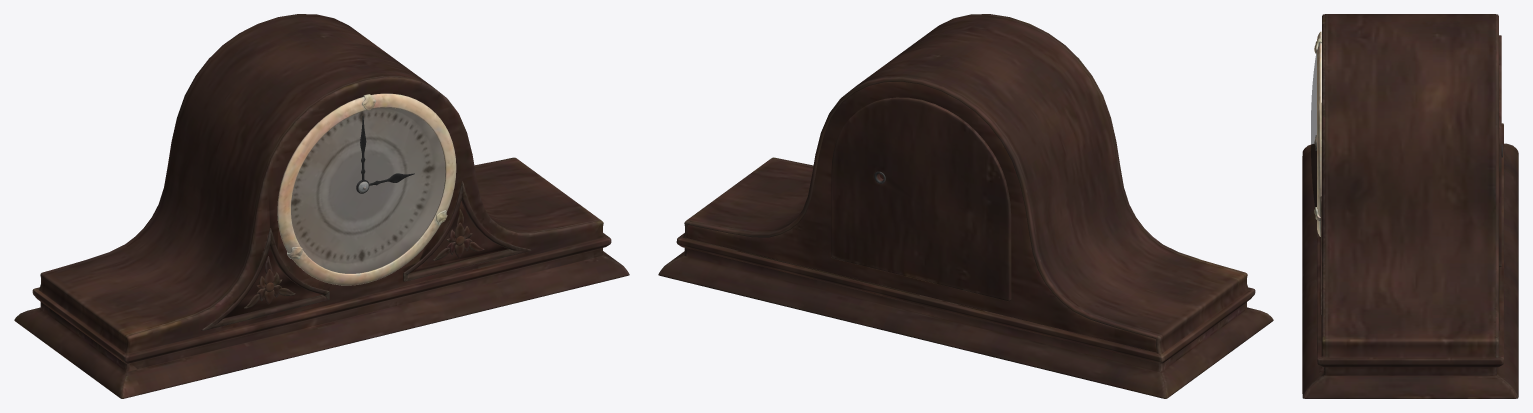
Rendered from design-mantel-clock-01.glb.
3 renders of one model, left to right at view 1: azimuth 30°, elevation 25°; view 2: azimuth 150°, elevation 25°; view 3: azimuth 270°, elevation 25°, orthographic.
Parts seen in each view (by area): view 1: mantel_clock_01, mantel_clock_01_glass; view 2: mantel_clock_01; view 3: mantel_clock_01, mantel_clock_01_glass.
Boxes of the visible parts, bbox=[...] form: mantel_clock_01: bbox=[14, 14, 629, 398]; mantel_clock_01_glass: bbox=[291, 107, 445, 273]; mantel_clock_01: bbox=[658, 14, 1273, 398]; mantel_clock_01: bbox=[1302, 14, 1518, 398]; mantel_clock_01_glass: bbox=[1311, 53, 1316, 207].
Bounding box in the file's own units: 0.3423 × 0.1605 × 0.1262.
Materials: 2 (2 with a texture image).
